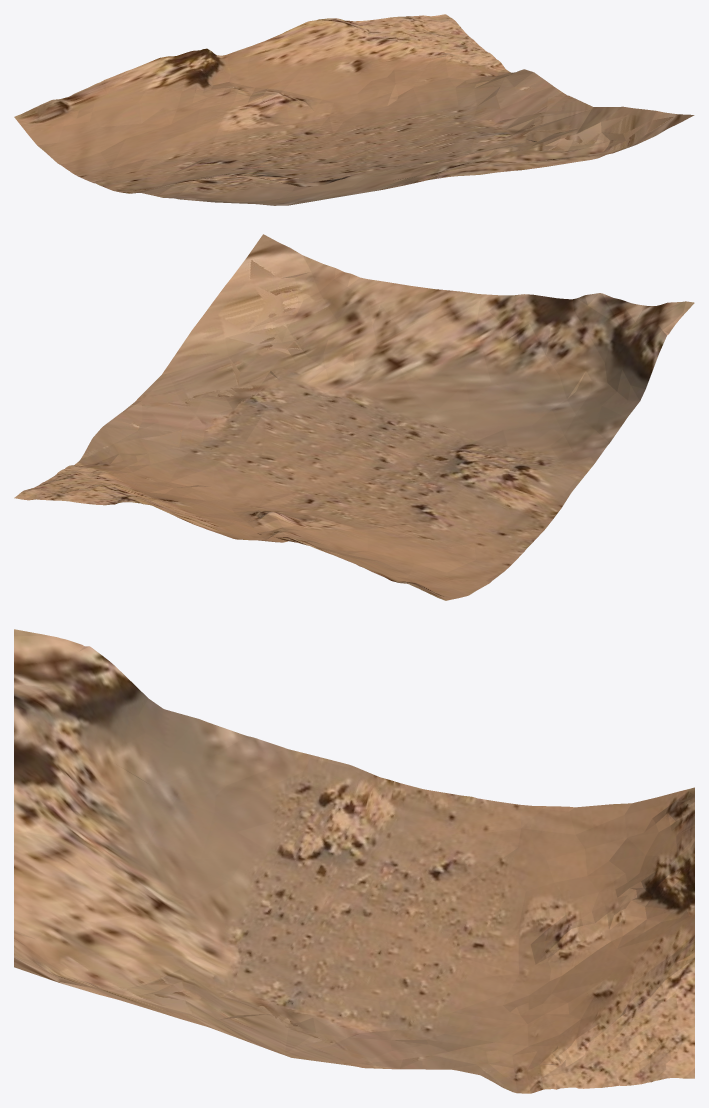
The picture shows the model from 3 angles, top to bottom: view 1: azimuth 30°, elevation 25°; view 2: azimuth 150°, elevation 25°; view 3: azimuth 270°, elevation 25°; orthographic projection. The views are drawn at different scales.
Bounding box in the file's own units: 1.04 × 0.3022 × 1.04.
2 materials, 2 textured.
